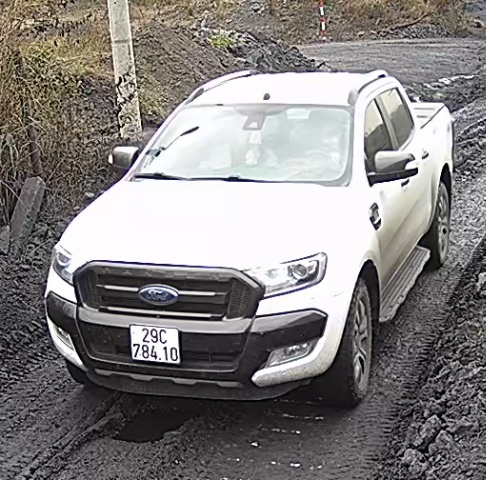vehicle plate: (123, 319, 185, 366)
